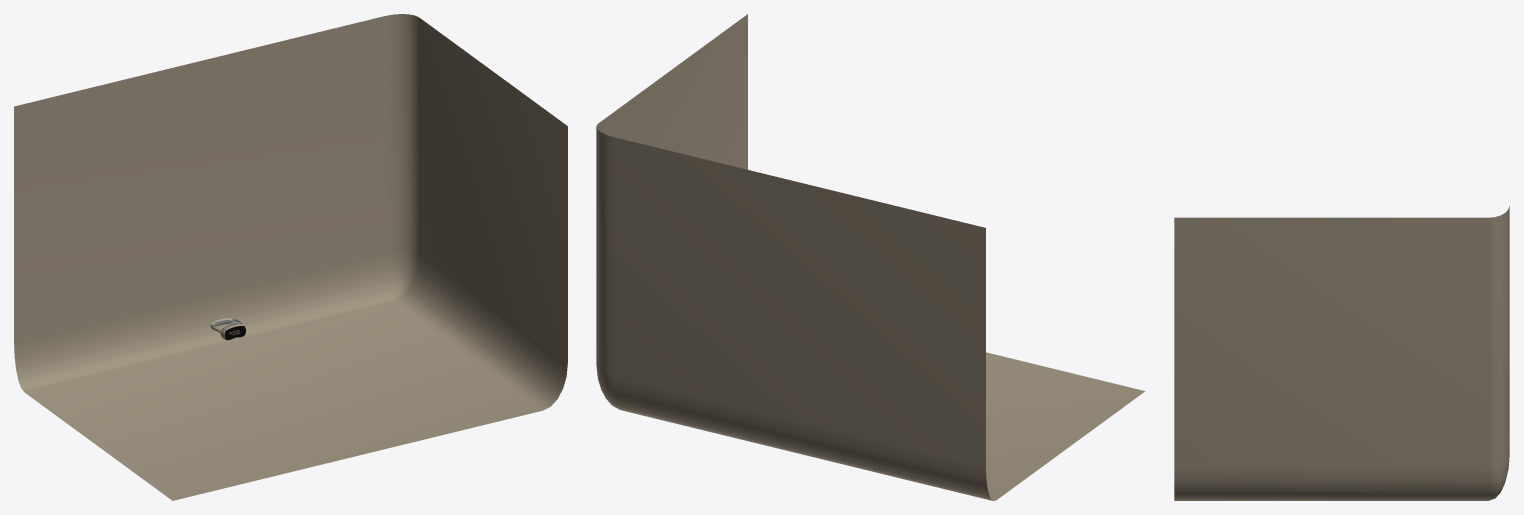
File: VRHEA11SET-v1.glb
3 renders of one model, left to right at view 1: azimuth 30°, elevation 25°; view 2: azimuth 150°, elevation 25°; view 3: azimuth 270°, elevation 25°, orthographic. The views are drawn at different scales.
Parts seen in each view (by area): view 1: Plane; view 2: Plane; view 3: Plane.
Boxes of the visible parts, x1,y1,x2,y2 form: Plane: (14, 14, 567, 500); Plane: (596, 14, 1145, 500); Plane: (1174, 206, 1509, 500).
Bounding box in the file's own units: 197 × 132 × 137.
Materials: 7 (4 with a texture image).
